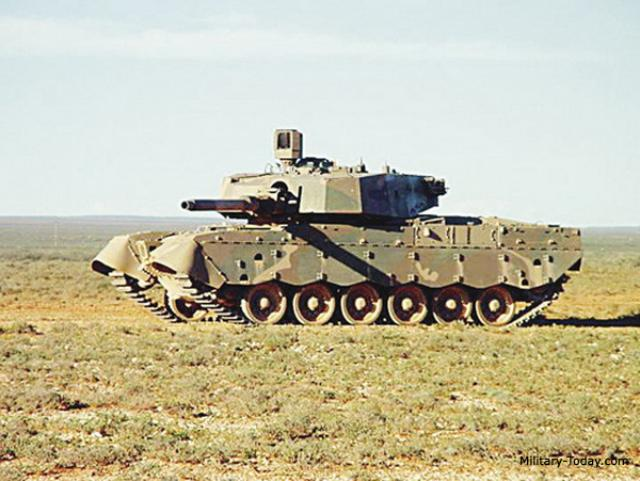tank: (114, 141, 572, 324)
